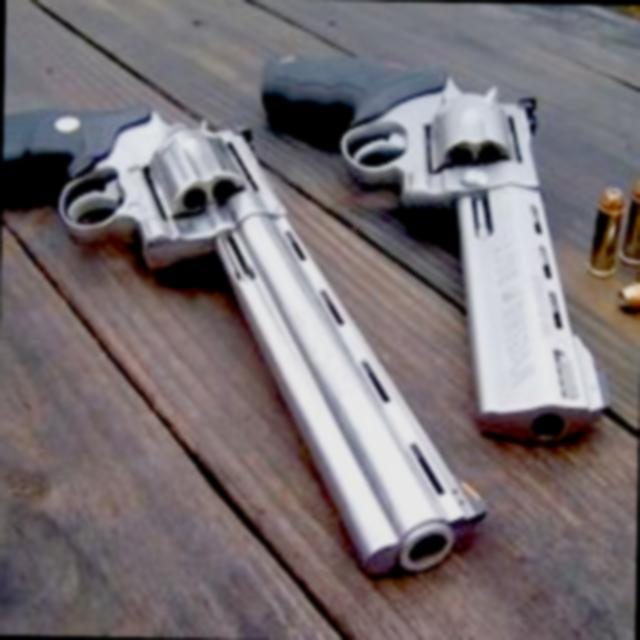revolver: (251, 0, 635, 489)
